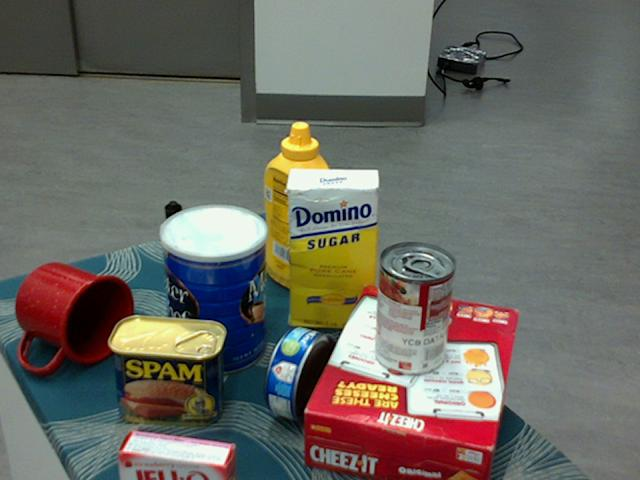cracker_box: (303, 287, 517, 479)
gelatin_box: (114, 428, 231, 479)
large_marker: (164, 200, 184, 300)
master_chef_can: (159, 205, 266, 376)
mug: (14, 261, 133, 372)
mustard_bottle: (262, 121, 333, 295)
potted_meat_can: (107, 314, 225, 425)
sugar_box: (286, 167, 378, 331)
tomato_soup_can: (372, 243, 455, 376)
tuna_fish_can: (264, 327, 336, 424)
